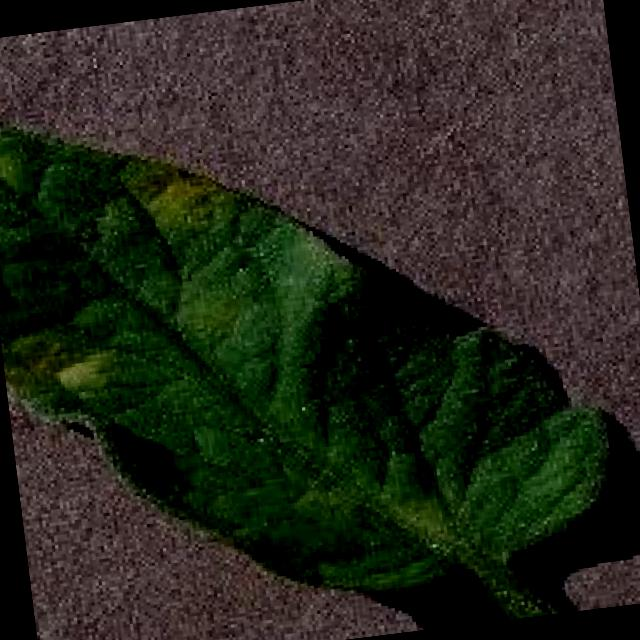leaf mold: (0, 116, 616, 620)
